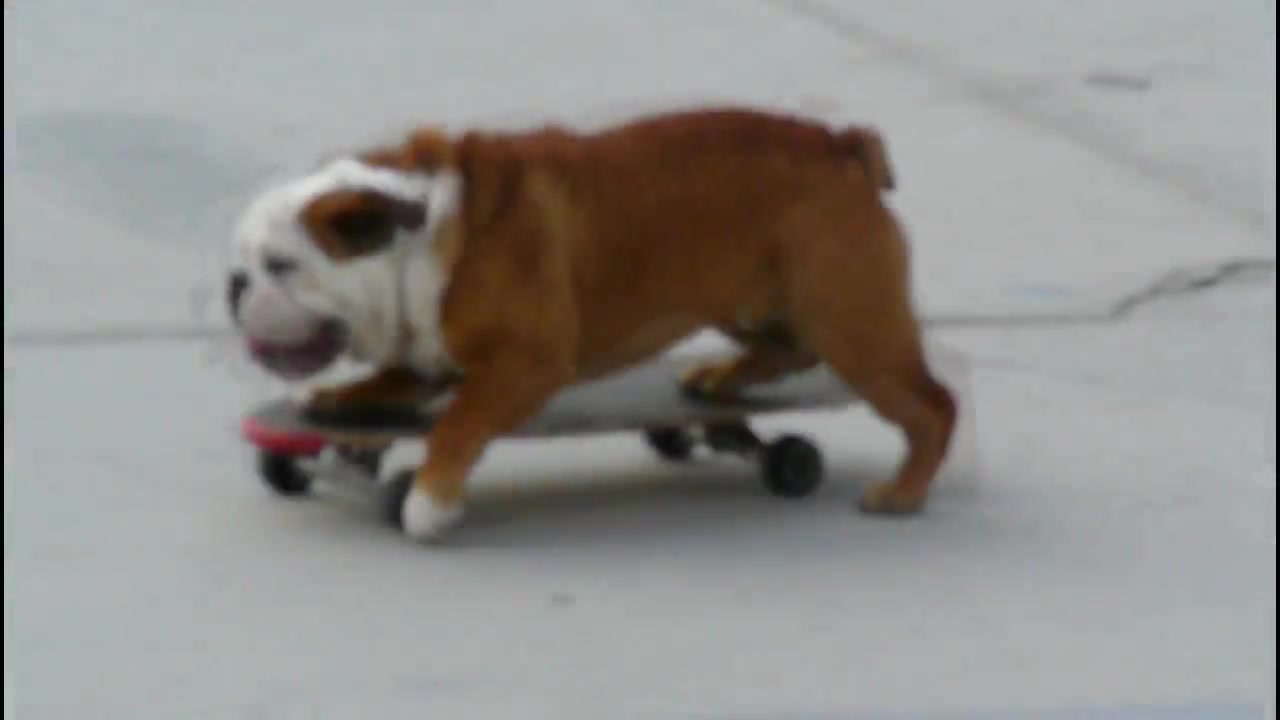dog: (225, 104, 961, 551)
